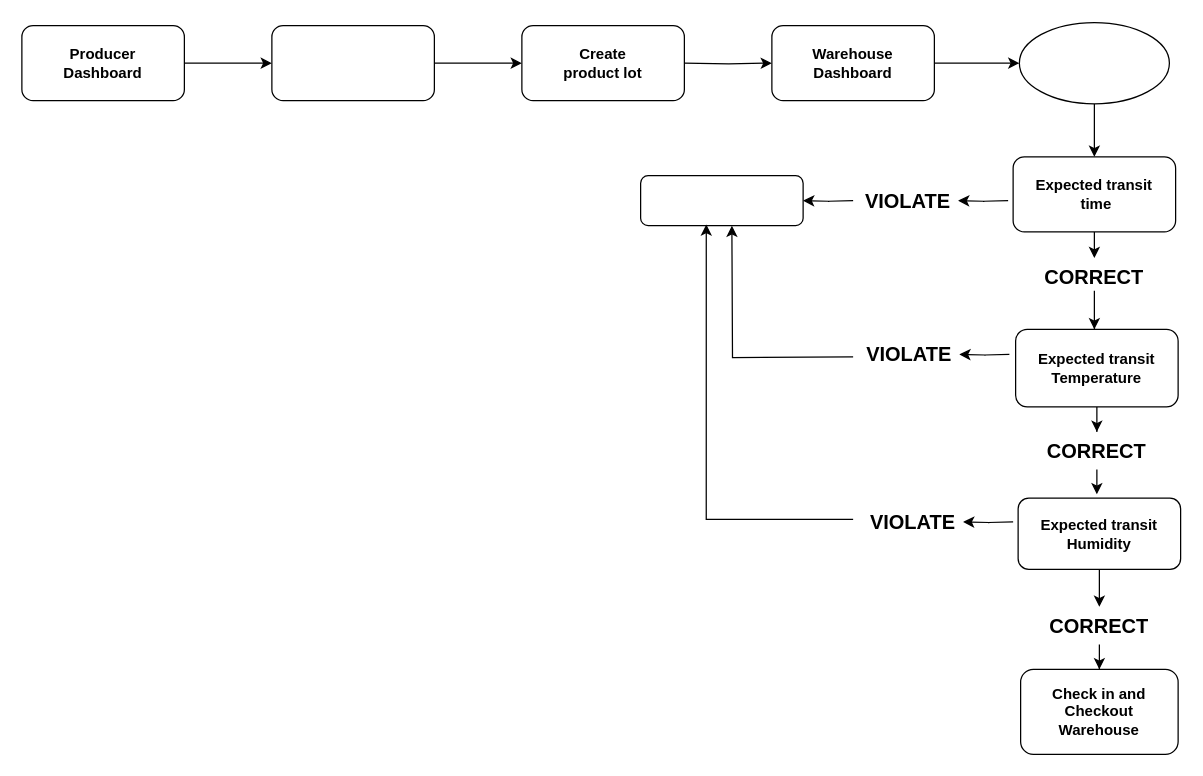
The diagram is 1203 pixels wide and 776 high, and some of its shapes have lost their labels. The centre of each missing label's shape, as x and y in pixels:
"Create new product" belongs at [352,62].
"Reject product" belongs at [721,200].
"Scan product" belongs at [1093,62].
